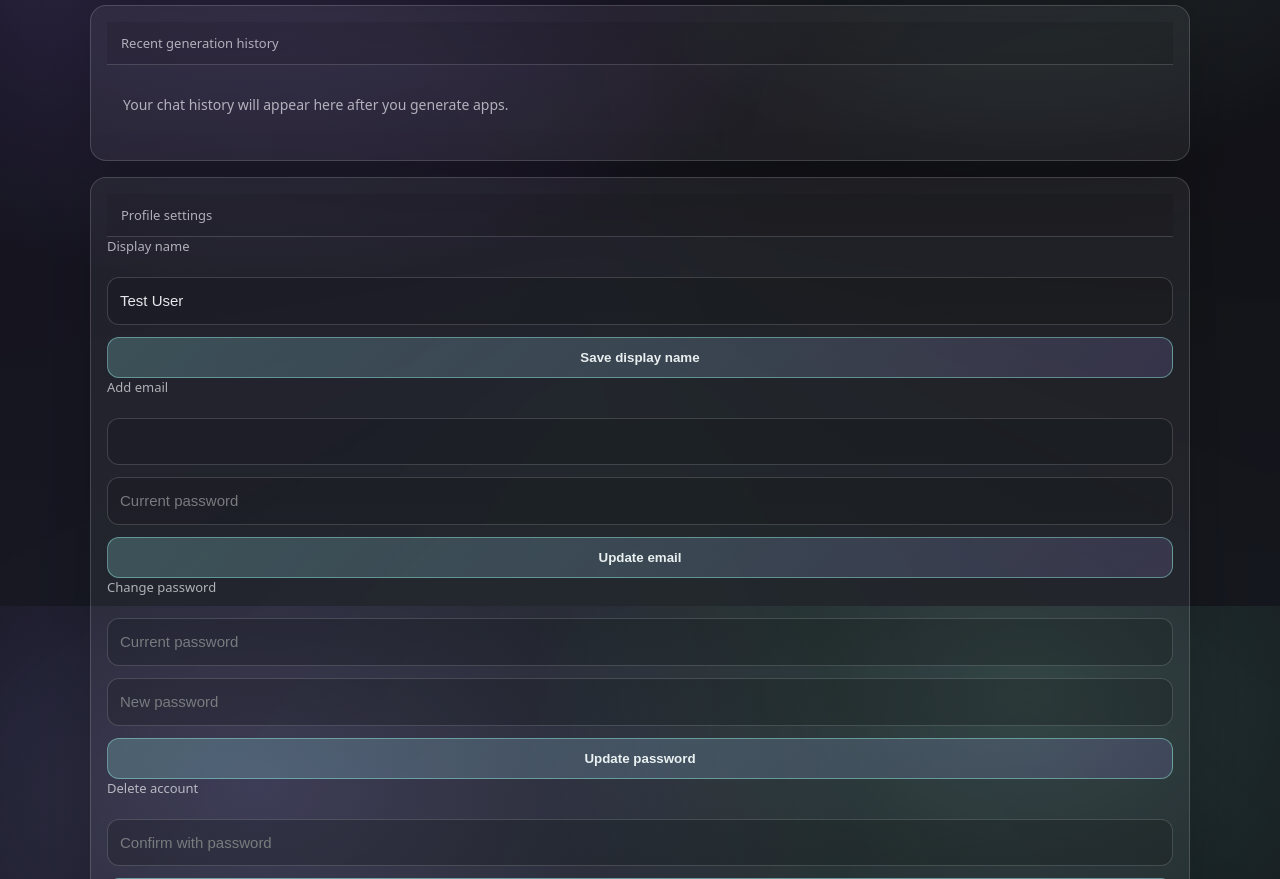
Test: DashboardPage › shows add-email messaging for accounts without an address
(page scrolled)
Type "new@example.com" into the field labelled "Add email". click: (640, 442)
box: [107,418,1173,466]
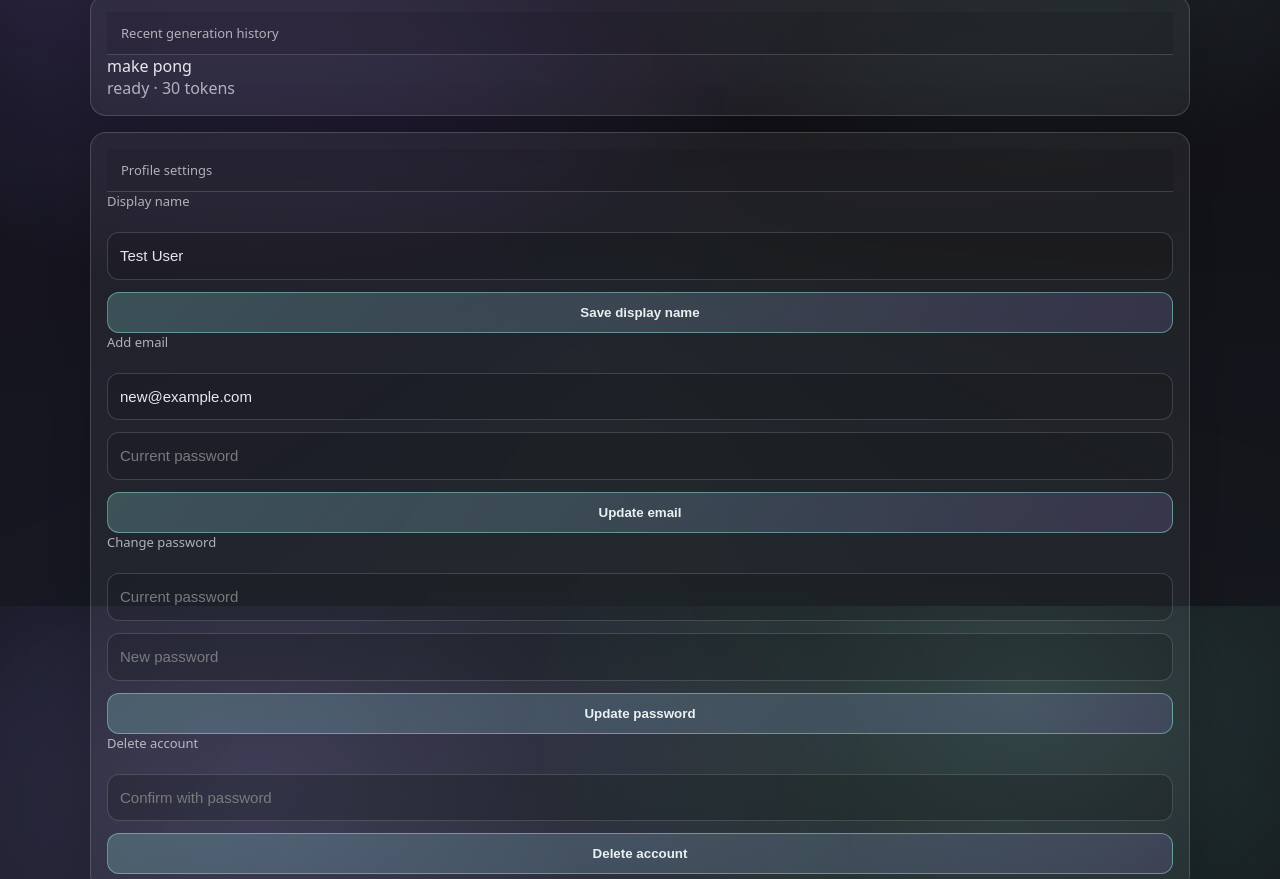
Type "secret123" into the password field with placeholder "Current password" below "Add email". click: (640, 456)
box: [107,432,1173,480]
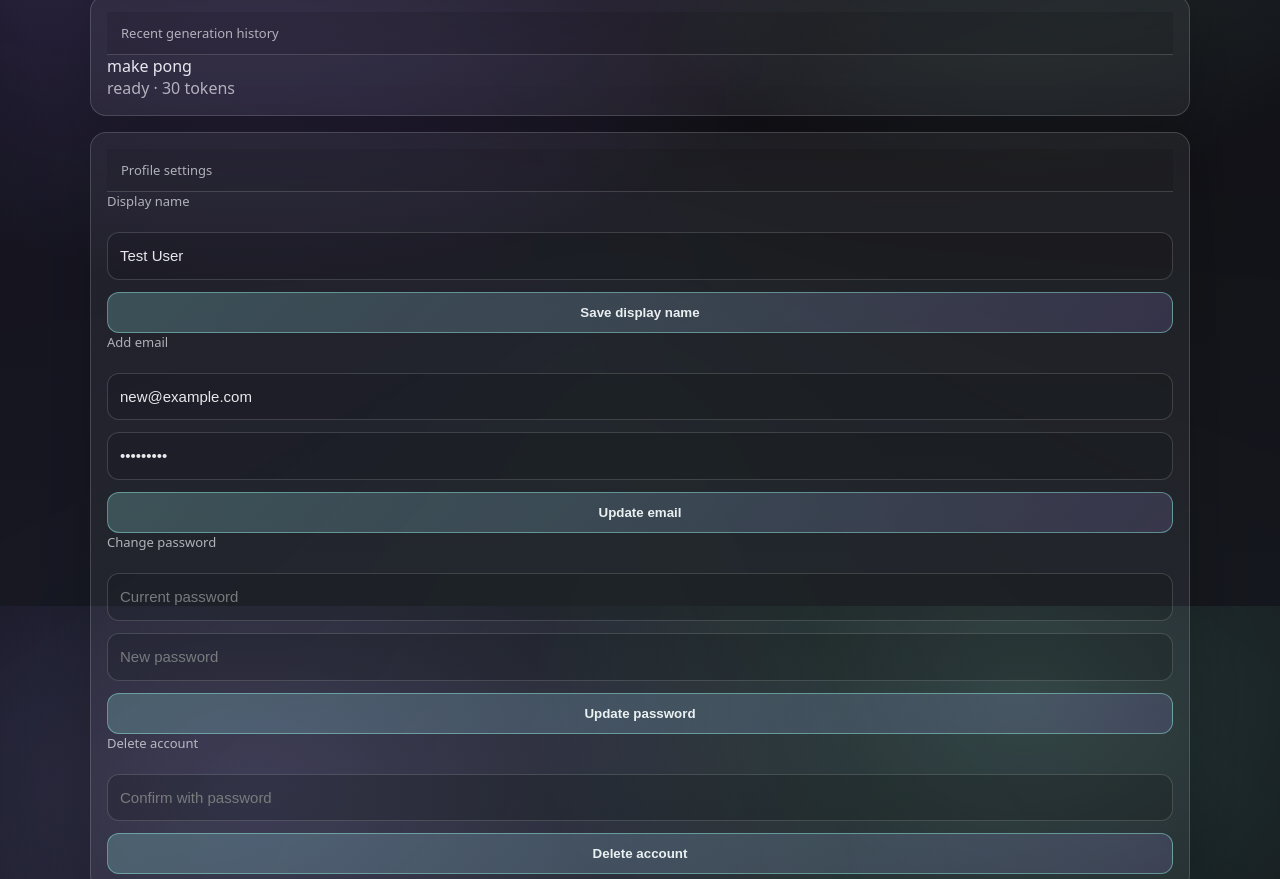
Click the button "Update email". click: (640, 513)
box: [107,492,1173,533]
(page scrolled)
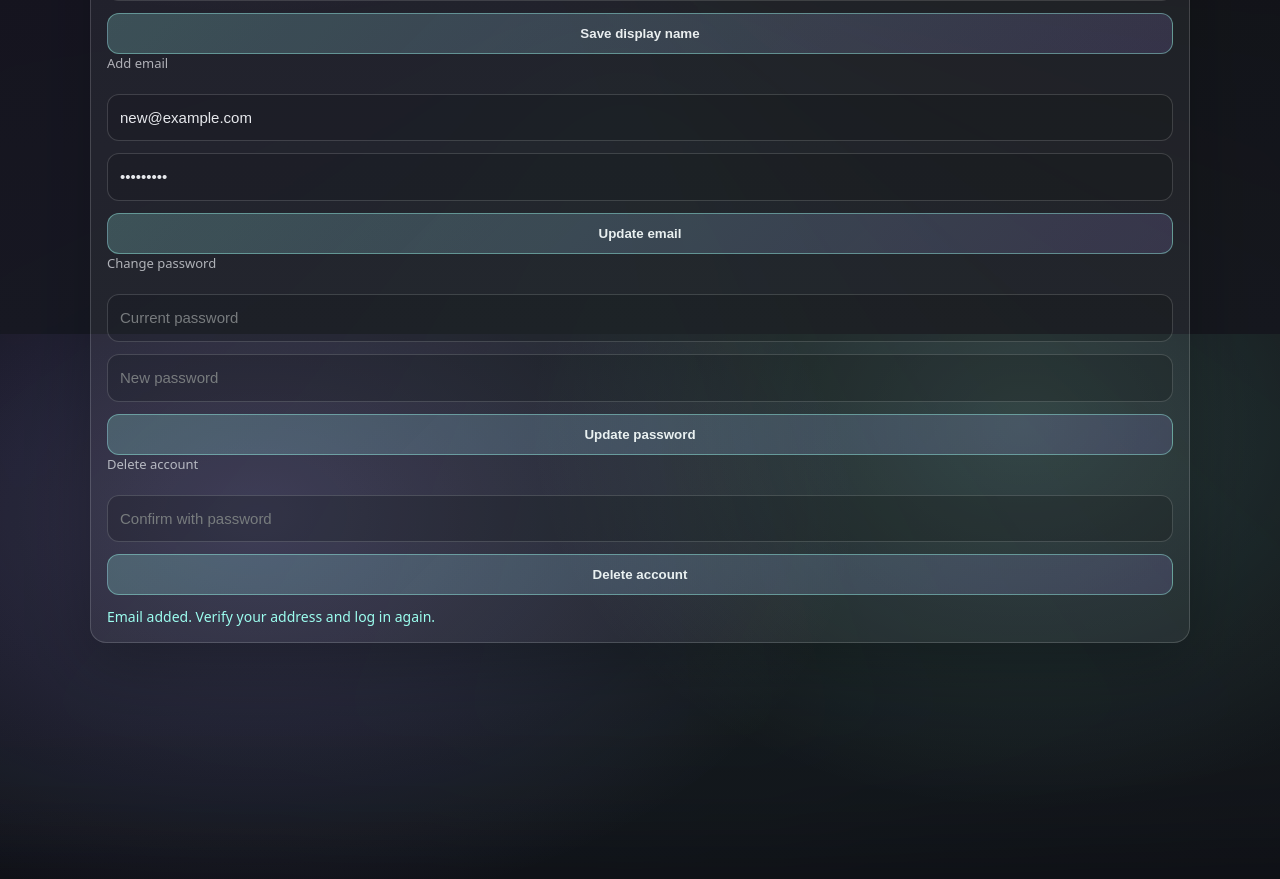
expect the text "Email added. Verify your address and log in again." is shown: met, box [107,607,435,626]
